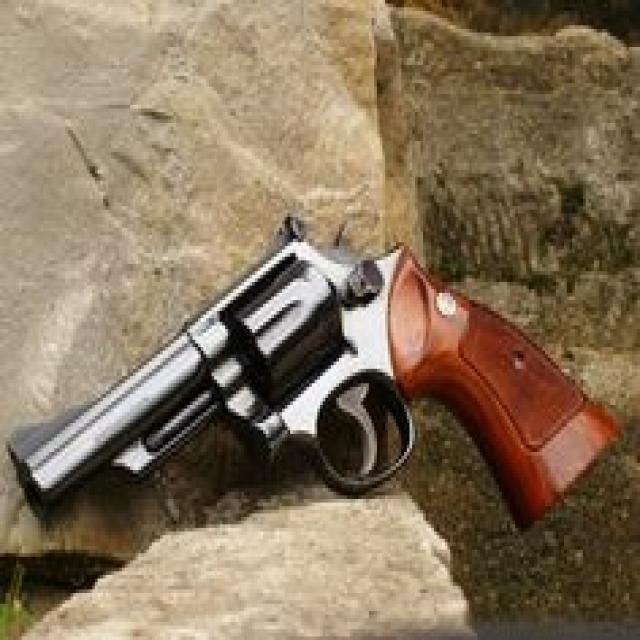revolver: (2, 202, 638, 563)
